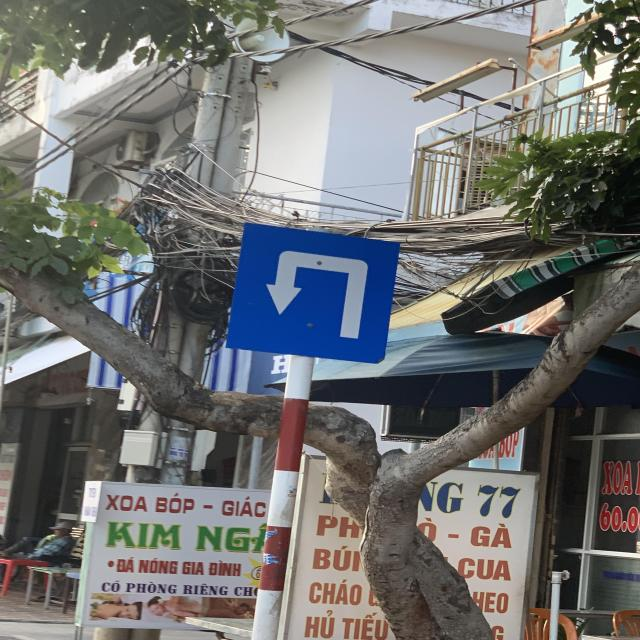Den_Giao_Thong: (228, 223, 401, 362)
